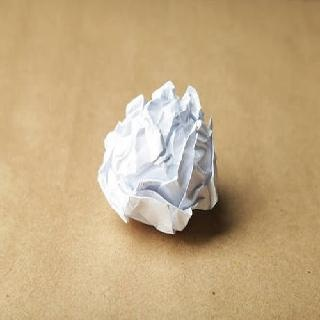8/可回收垃圾/纸: (95, 80, 220, 235)
